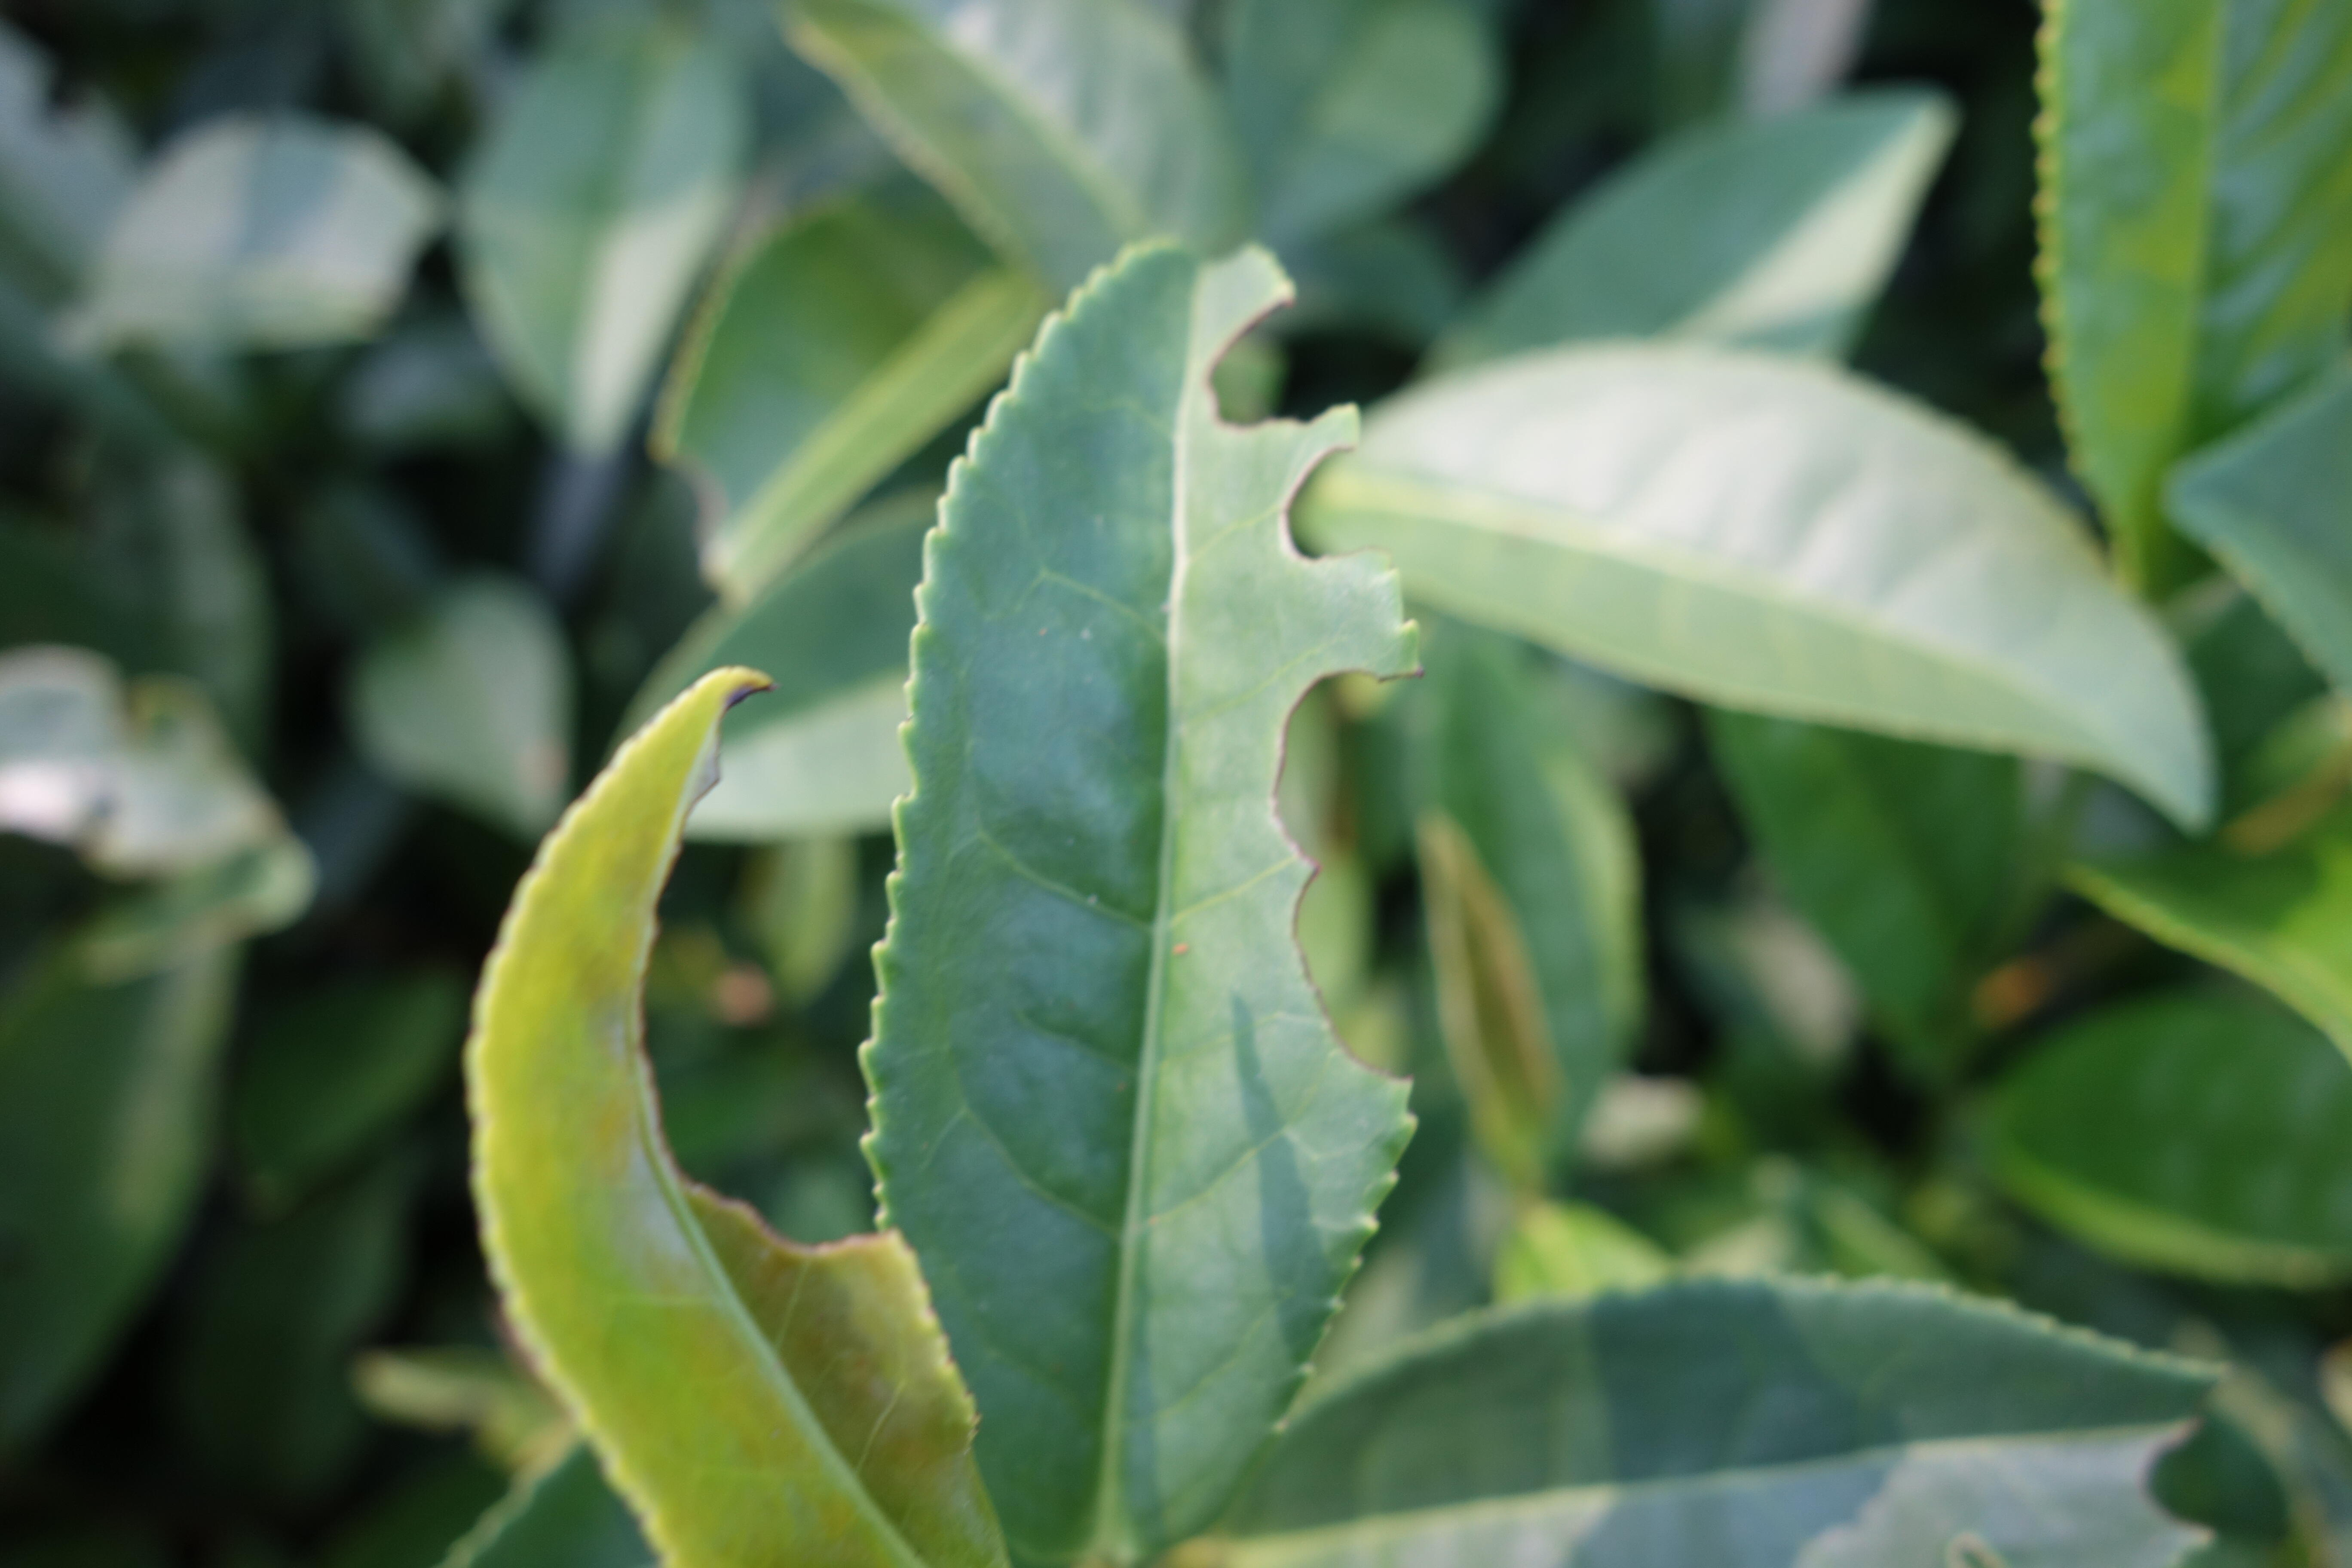chihuo_high: (863, 238, 1423, 1556)
chihuo_low: (458, 660, 1015, 1561)
